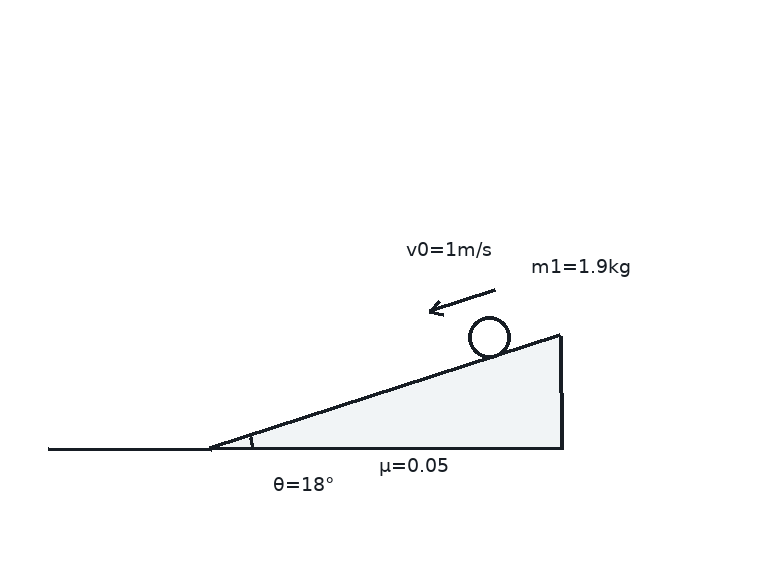ball: (466, 314, 512, 360)
ramp: (210, 334, 562, 451)
